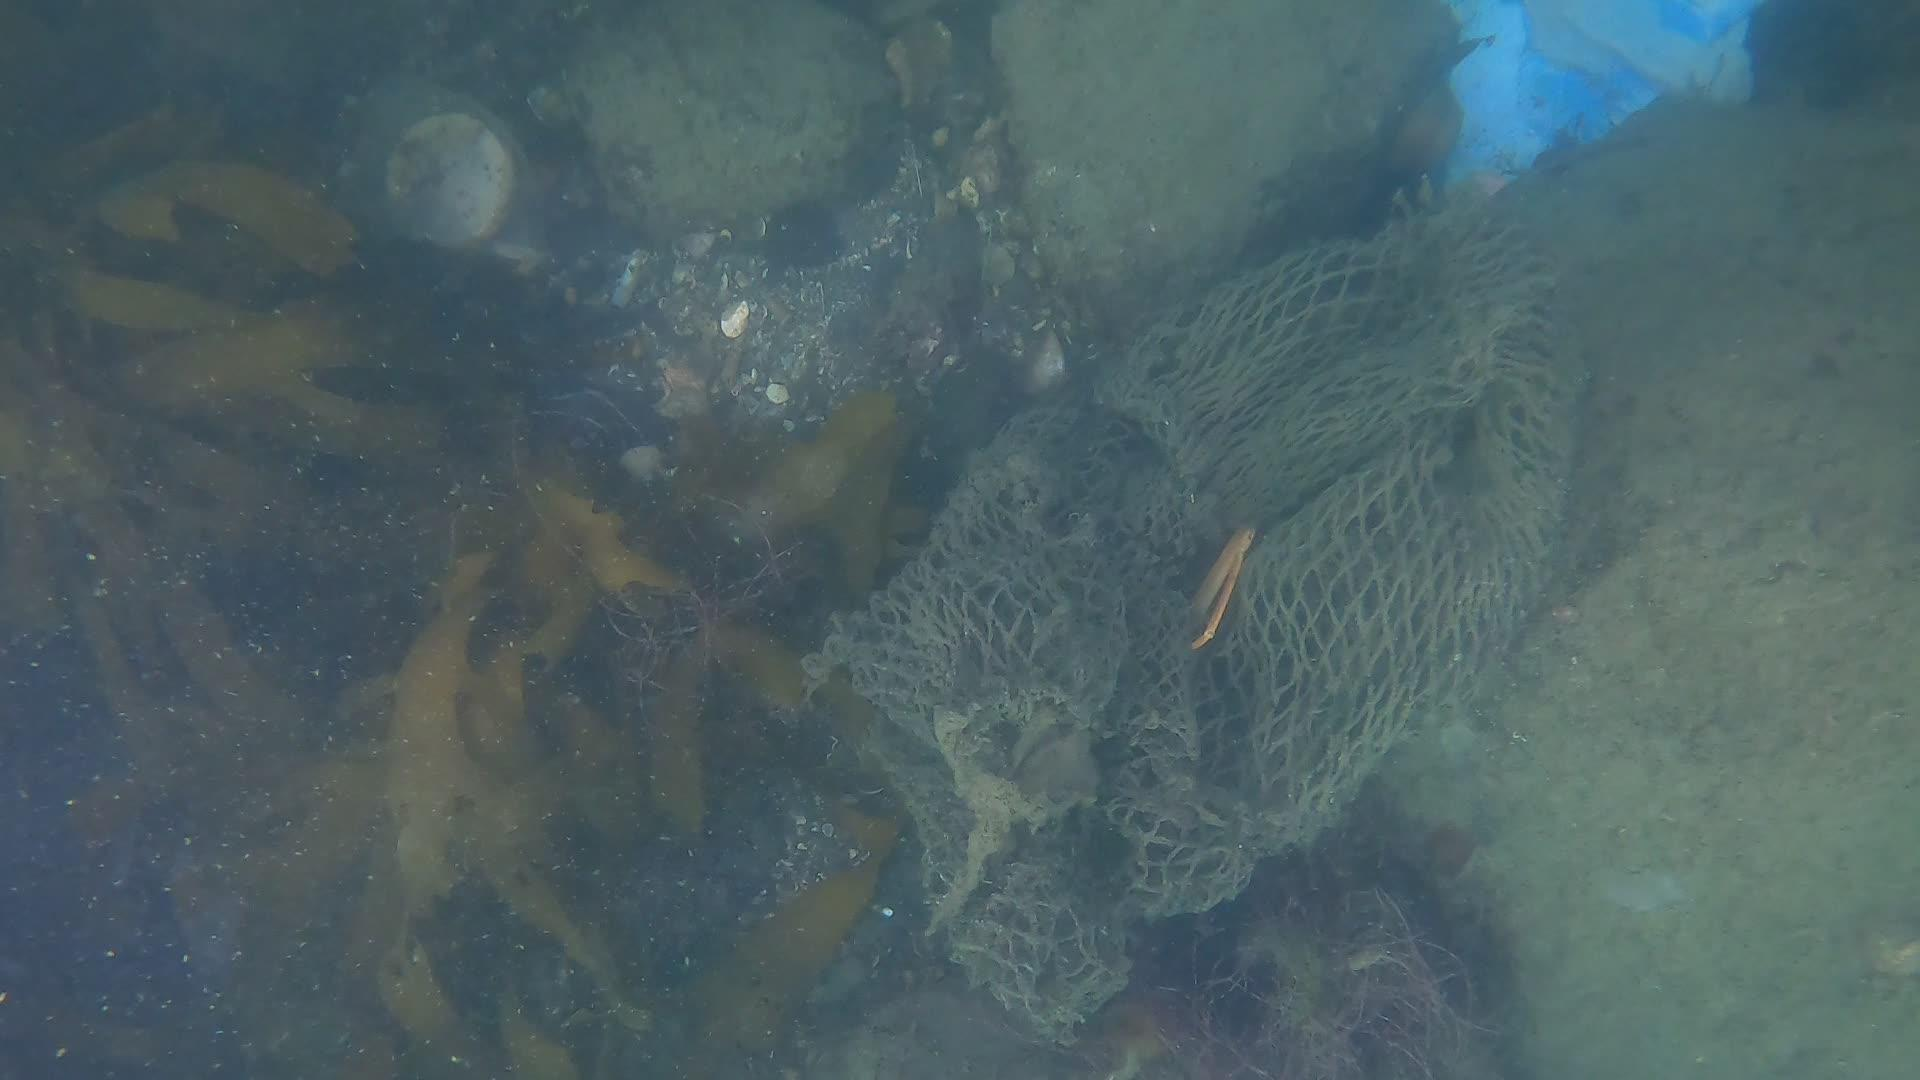fish net: (806, 191, 1565, 1040)
